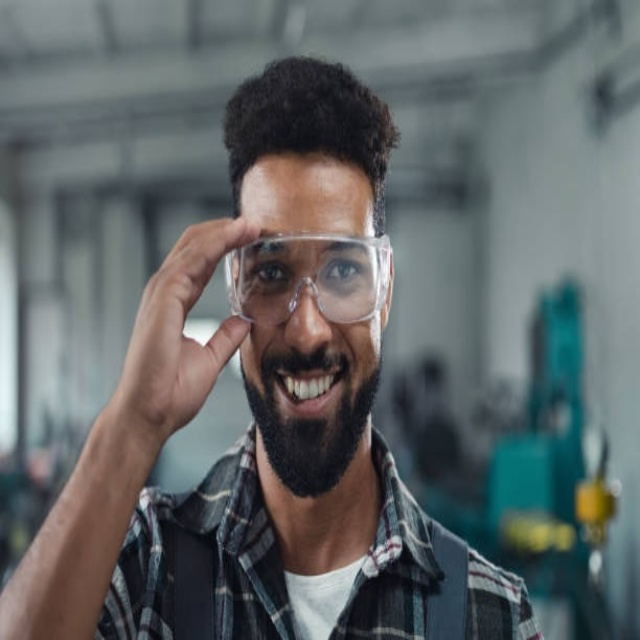Gafas: (224, 229, 395, 323)
Sin_guantes: (106, 204, 247, 430)
Sin_mascara: (270, 359, 351, 430)
